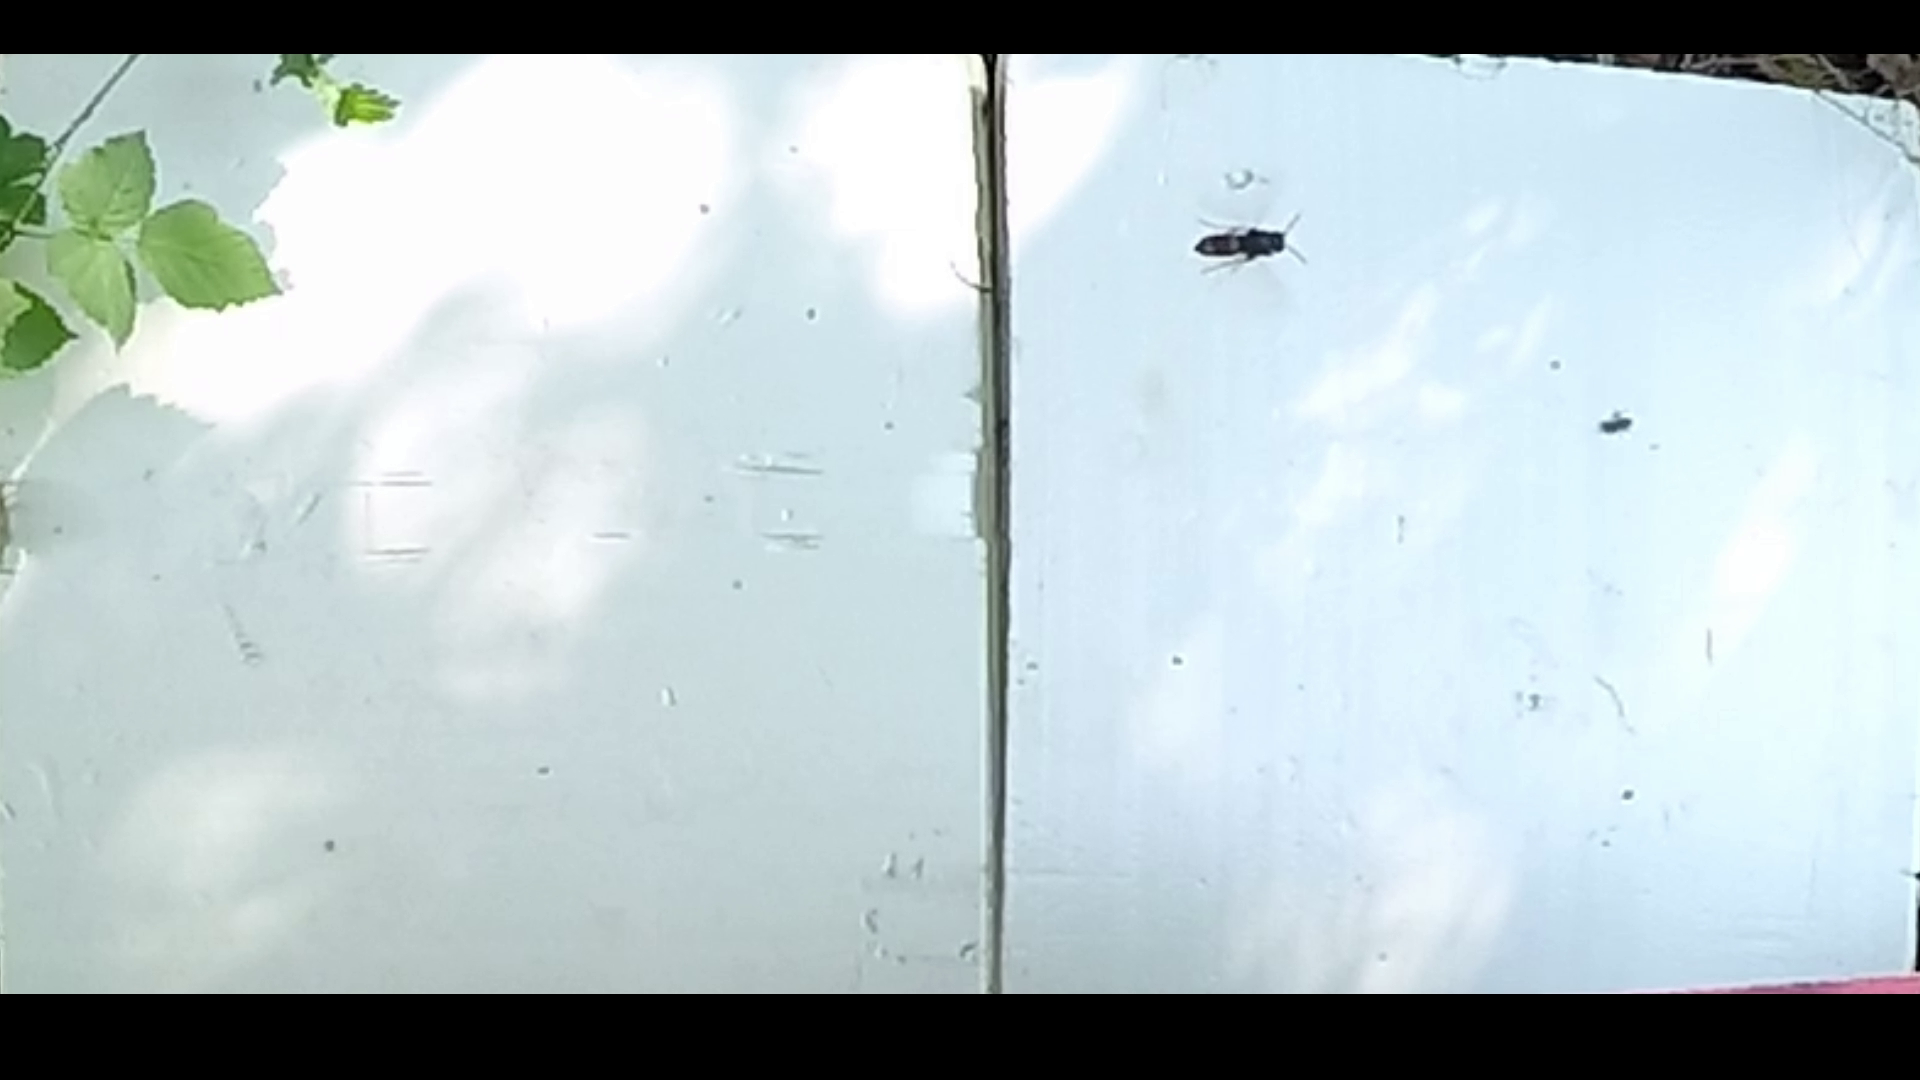Asian_hornets: (1182, 190, 1317, 293)
